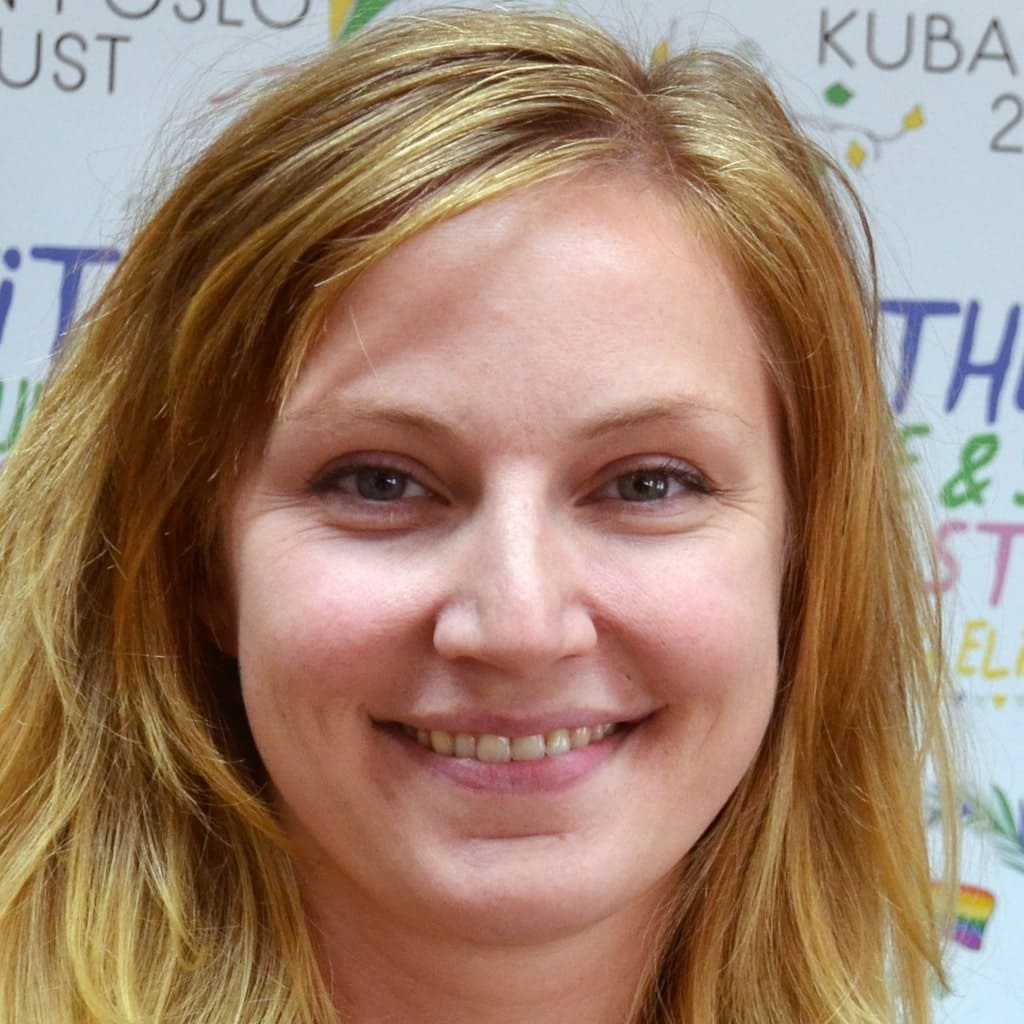without_mask: (262, 270, 773, 853)
